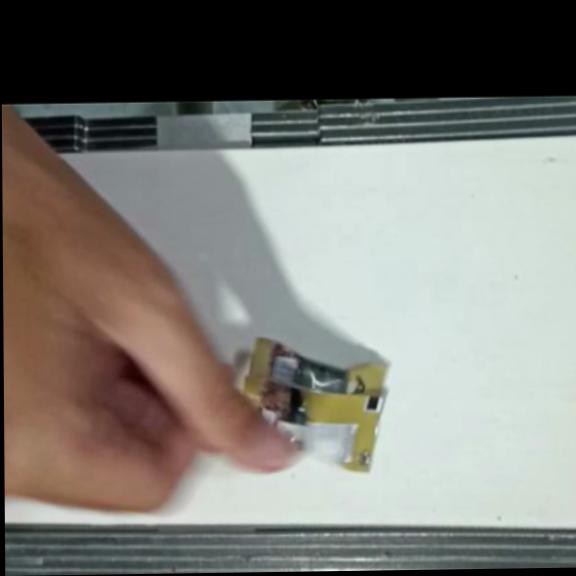Plastik: (241, 334, 385, 474)
